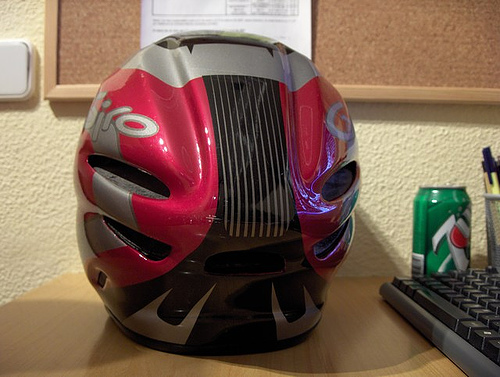helmet: (72, 42, 365, 346)
